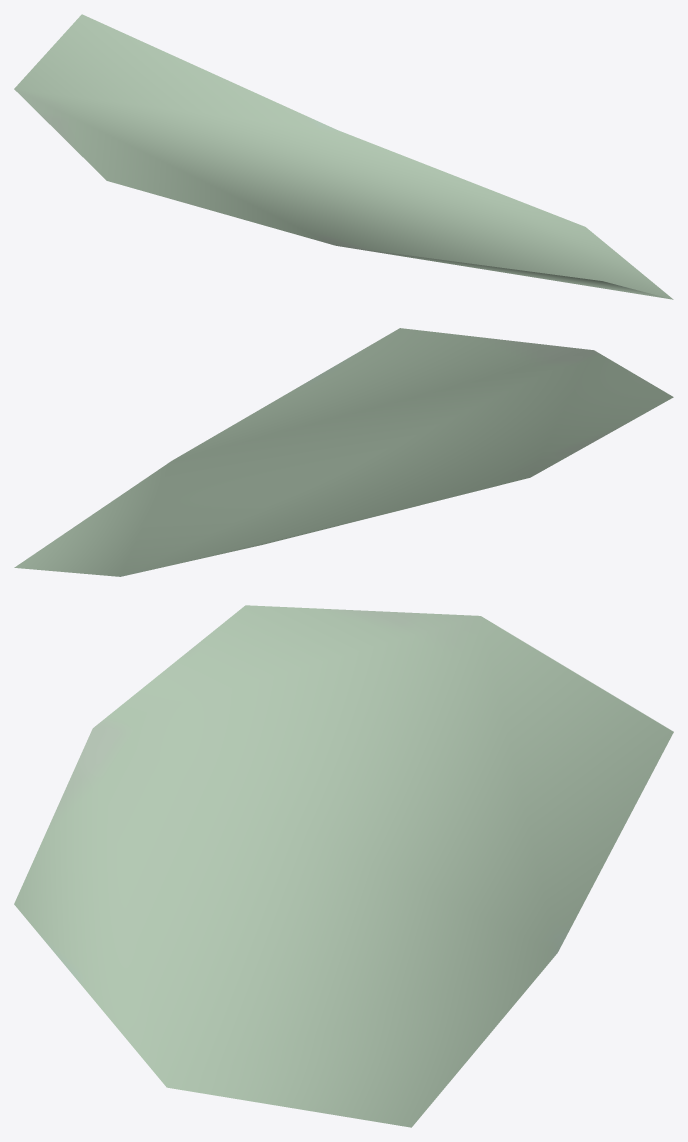
File: TROLLHOLE02_HOLECAP164.fbx
3 views of the same model, one above another, from view 1: azimuth 30°, elevation 25°; view 2: azimuth 150°, elevation 25°; view 3: azimuth 270°, elevation 25° (orthographic). The views are drawn at different scales.
Parts seen in each view (by area): view 1: TROLLHOLE02_HOLECAP164; view 2: TROLLHOLE02_HOLECAP164; view 3: TROLLHOLE02_HOLECAP164.
Part boxes in pixels (x1,y1,x2,y2): TROLLHOLE02_HOLECAP164: [14, 14, 673, 299]; TROLLHOLE02_HOLECAP164: [14, 328, 673, 576]; TROLLHOLE02_HOLECAP164: [14, 605, 673, 1127].
Size of the model in its own units: 41045 by 17059 by 41368.
1 material, 1 textured.
